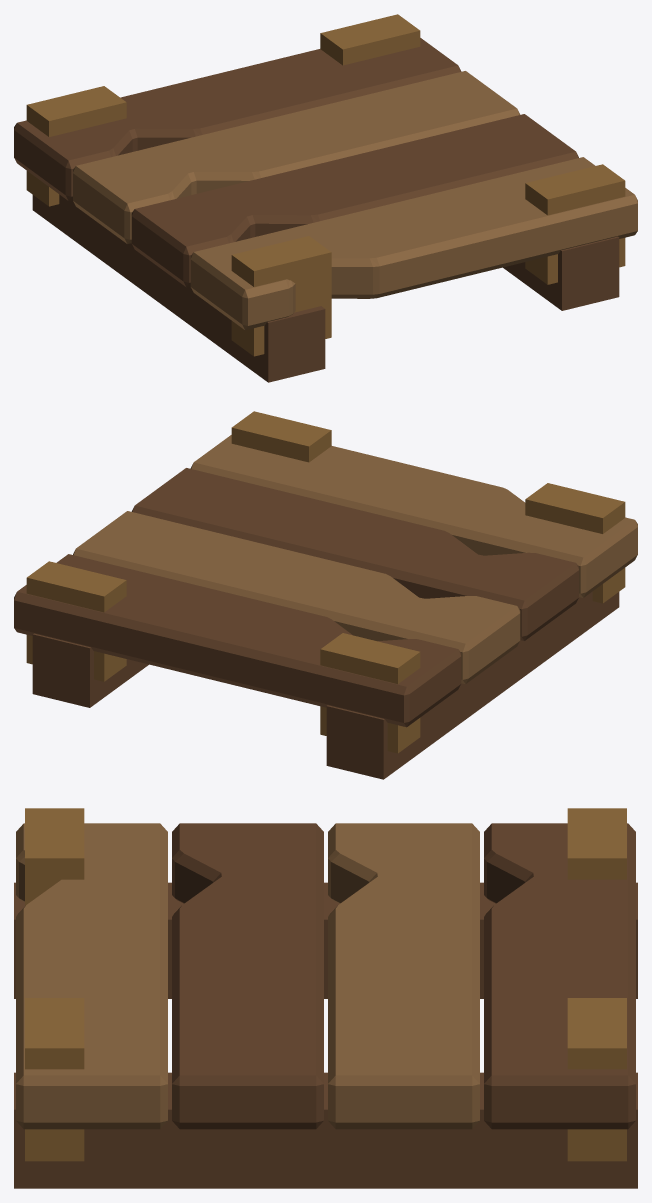
The model's file is VAULT_TIMBER_BRIDGE.shadow.glb.
3 renders of one model, top to bottom at view 1: azimuth 30°, elevation 25°; view 2: azimuth 150°, elevation 25°; view 3: azimuth 270°, elevation 25°, orthographic. The views are drawn at different scales.
Parts seen in each view (by area): view 1: Body_Mesh; view 2: Body_Mesh; view 3: Body_Mesh.
Boxes of the visible parts, bbox=[...] form: Body_Mesh: bbox=[14, 14, 637, 382]; Body_Mesh: bbox=[14, 411, 637, 779]; Body_Mesh: bbox=[14, 808, 637, 1188].
Size of the model in its own units: 0.97 by 0.26 by 1.
